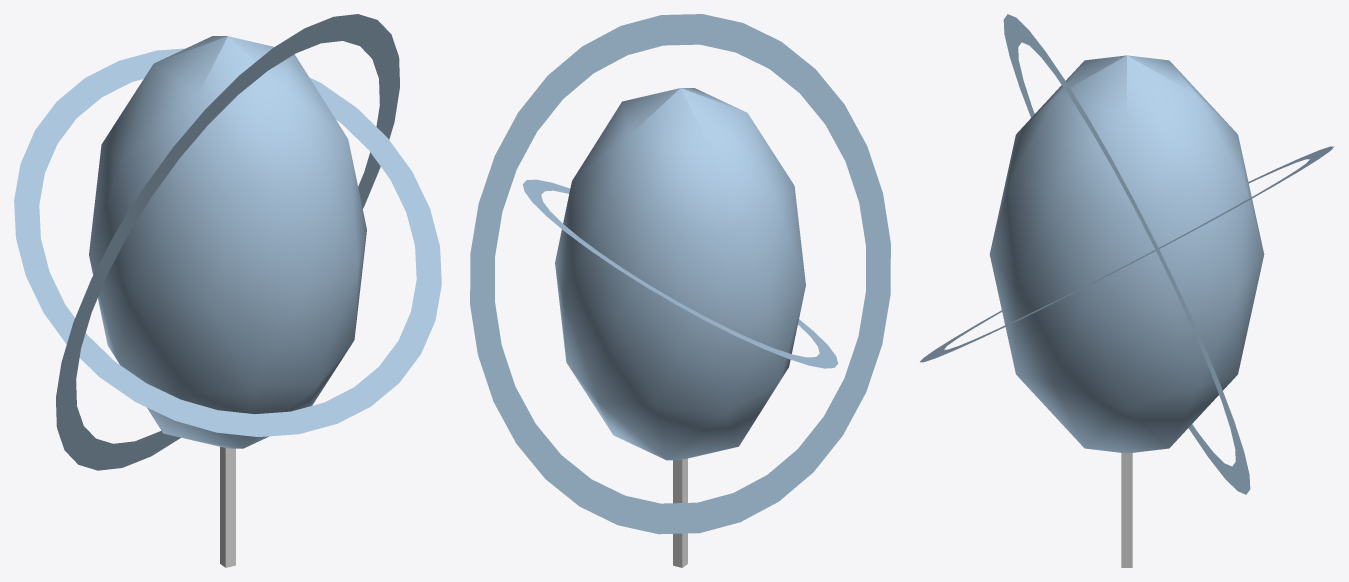
File: CandyFlossBlue.fbx
The picture shows the model from 3 angles, left to right: view 1: azimuth 30°, elevation 25°; view 2: azimuth 150°, elevation 25°; view 3: azimuth 270°, elevation 25°; orthographic projection. The views are drawn at different scales.
Visible parts, largest first — view 1: CandyFlossBlue; view 2: CandyFlossBlue; view 3: CandyFlossBlue.
Part boxes in pixels (box(x1,y1,x2,y2)): CandyFlossBlue: box(14, 14, 441, 567); CandyFlossBlue: box(470, 14, 890, 567); CandyFlossBlue: box(920, 14, 1333, 567).
Size of the model in its own units: 122 by 169 by 116.
